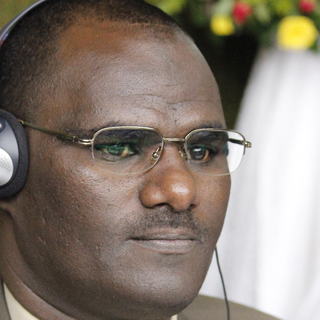eye: (92, 139, 146, 161), (179, 142, 221, 166)
